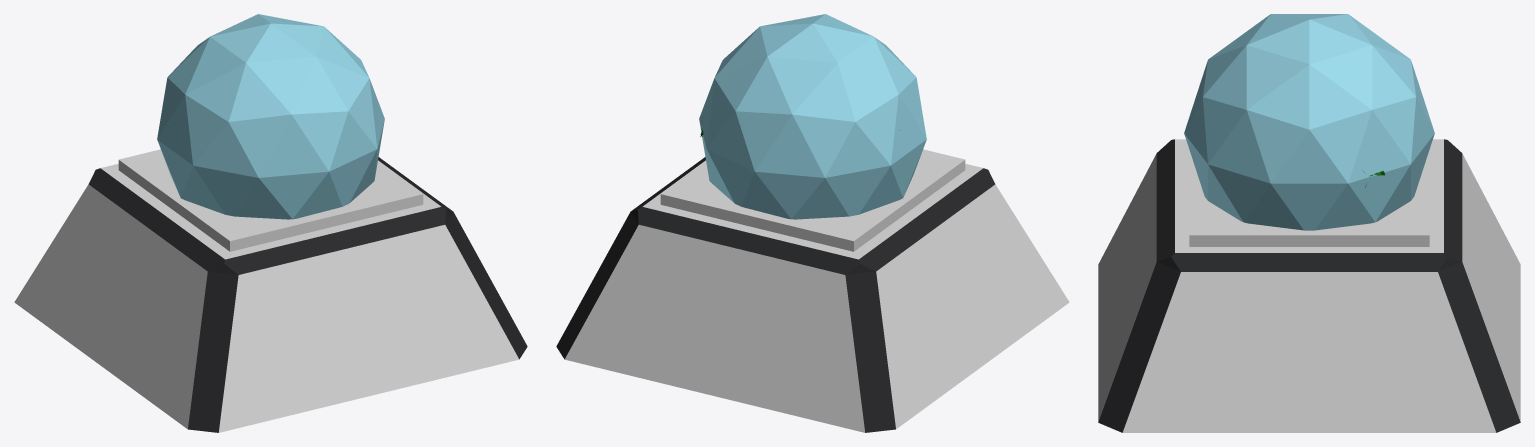
The picture shows the model from 3 angles, left to right: view 1: azimuth 30°, elevation 25°; view 2: azimuth 150°, elevation 25°; view 3: azimuth 270°, elevation 25°; orthographic projection. The views are drawn at different scales.
Parts seen in each view (by area): view 1: tower, Icosphere; view 2: tower, Icosphere; view 3: tower, Icosphere.
Part boxes in pixels (x1,y1,x2,y2): tower: (14, 149, 527, 432); Icosphere: (157, 14, 384, 219); tower: (556, 149, 1069, 432); Icosphere: (699, 14, 926, 219); tower: (1098, 139, 1520, 432); Icosphere: (1184, 14, 1434, 230).
Bounding box in the file's own units: 2 × 2 × 1.69.
Materials: 5 (1 with a texture image).
